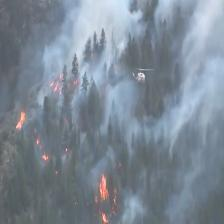fire: (1, 45, 156, 222)
